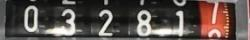digits: (197, 1, 230, 37), (45, 8, 76, 35), (97, 9, 114, 35), (136, 9, 151, 35), (24, 5, 38, 31), (175, 10, 183, 34)
